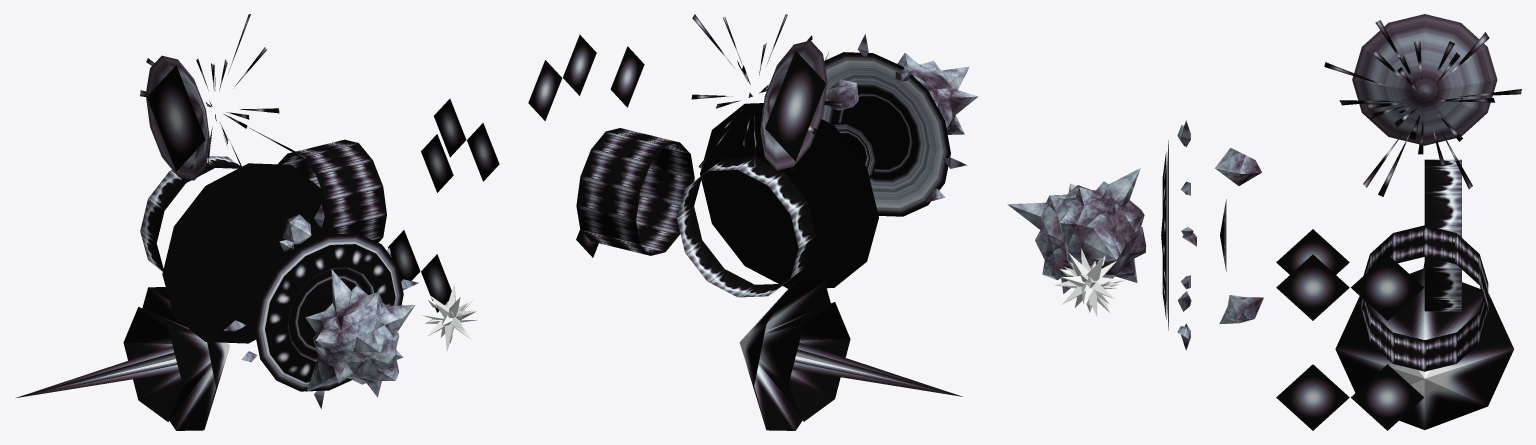
The picture shows the model from 3 angles, left to right: view 1: azimuth 30°, elevation 25°; view 2: azimuth 150°, elevation 25°; view 3: azimuth 270°, elevation 25°; orthographic projection. The views are drawn at different scales.
Visible parts, largest first — view 1: M_0096_1, M_0096_0; view 2: M_0096_1, M_0096_0; view 3: M_0096_1, M_0096_0.
Part boxes in pixels (x1,y1,x2,y2): M_0096_1: [15, 14, 499, 430]; M_0096_0: [162, 163, 415, 397]; M_0096_1: [528, 14, 967, 430]; M_0096_0: [700, 53, 978, 288]; M_0096_1: [1053, 14, 1521, 430]; M_0096_0: [1007, 125, 1263, 338].
Bounding box in the file's own units: 13.14 × 11.62 × 12.43.
2 materials, 2 textured.
